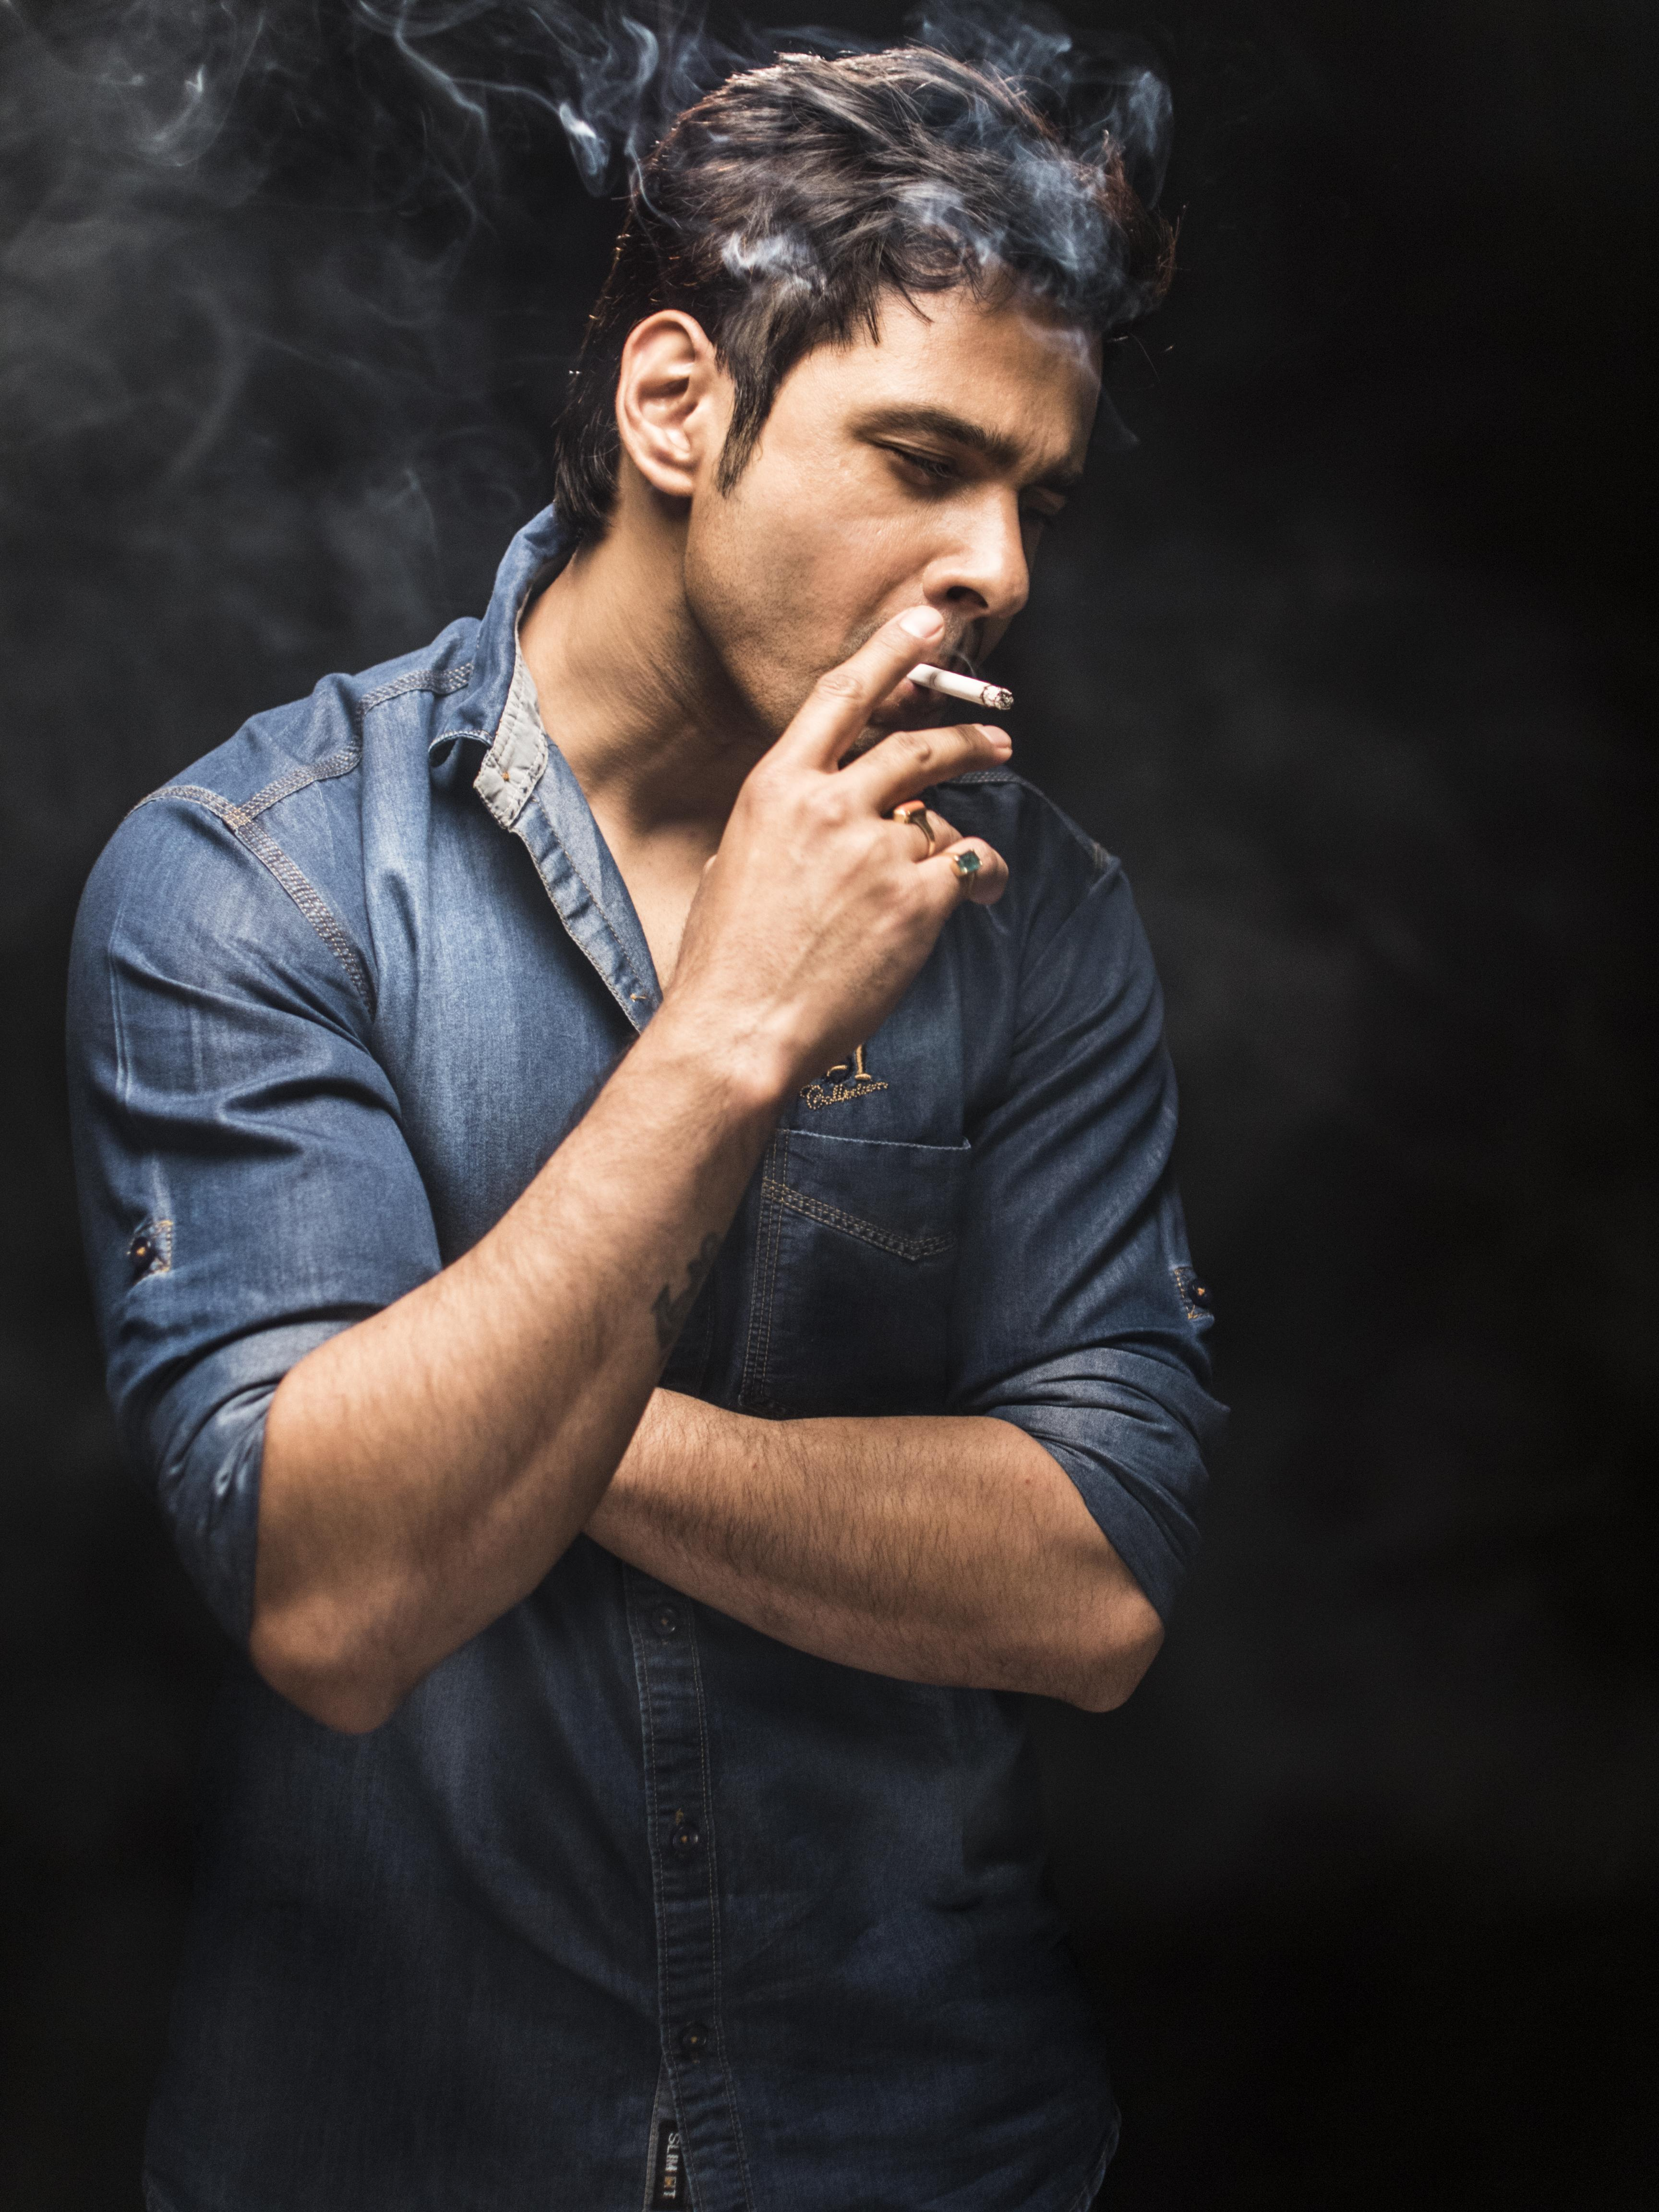cigarette: (908, 662, 1016, 711)
